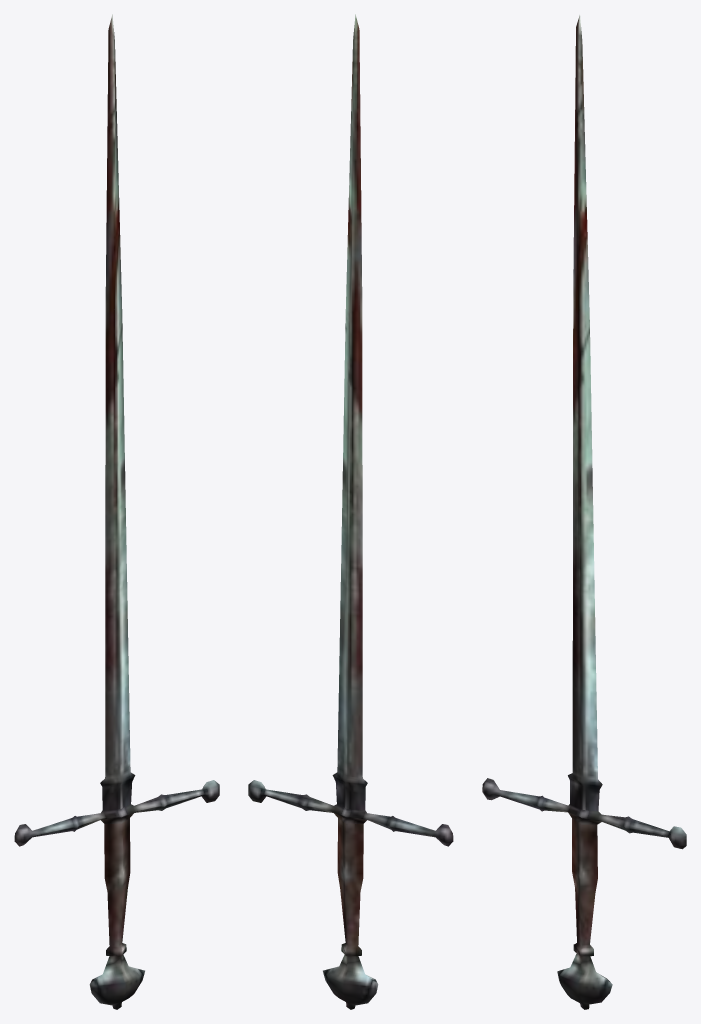
The model's file is weapon-pig-sticker.glb.
The picture shows the model from 3 angles, left to right: view 1: azimuth 30°, elevation 25°; view 2: azimuth 150°, elevation 25°; view 3: azimuth 330°, elevation 25°; orthographic projection.
Parts seen in each view (by area): view 1: rapierA_MDL_q; view 2: rapierA_MDL_q; view 3: rapierA_MDL_q.
Part boxes in pixels (x1=…): rapierA_MDL_q: x1=14, y1=14, x2=219, y2=1009; rapierA_MDL_q: x1=248, y1=14, x2=453, y2=1009; rapierA_MDL_q: x1=482, y1=15, x2=686, y2=1009.
Size of the model in its own units: 0.3968 by 1.84 by 0.0515.
Materials: 1 (1 with a texture image).
